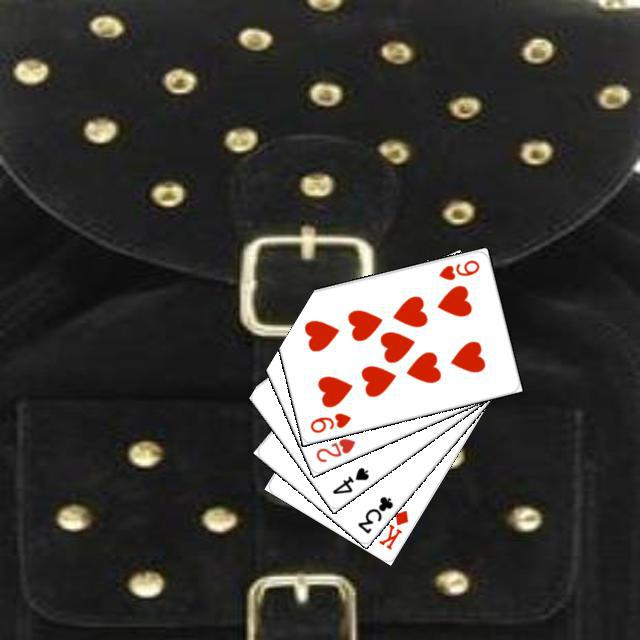2h: (311, 433, 357, 464)
3c: (352, 491, 395, 536)
4s: (327, 462, 371, 496)
9h: (305, 408, 353, 435), (434, 255, 481, 282)
Kd: (373, 505, 410, 552)
